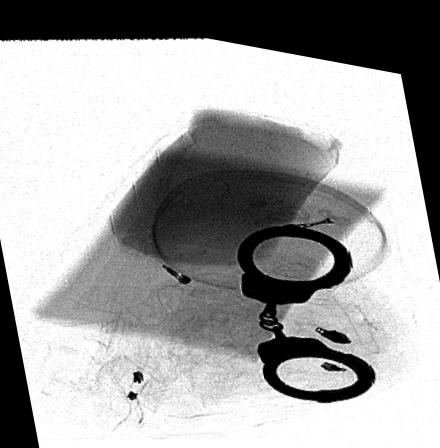HandCuffs: (235, 210, 374, 389)
